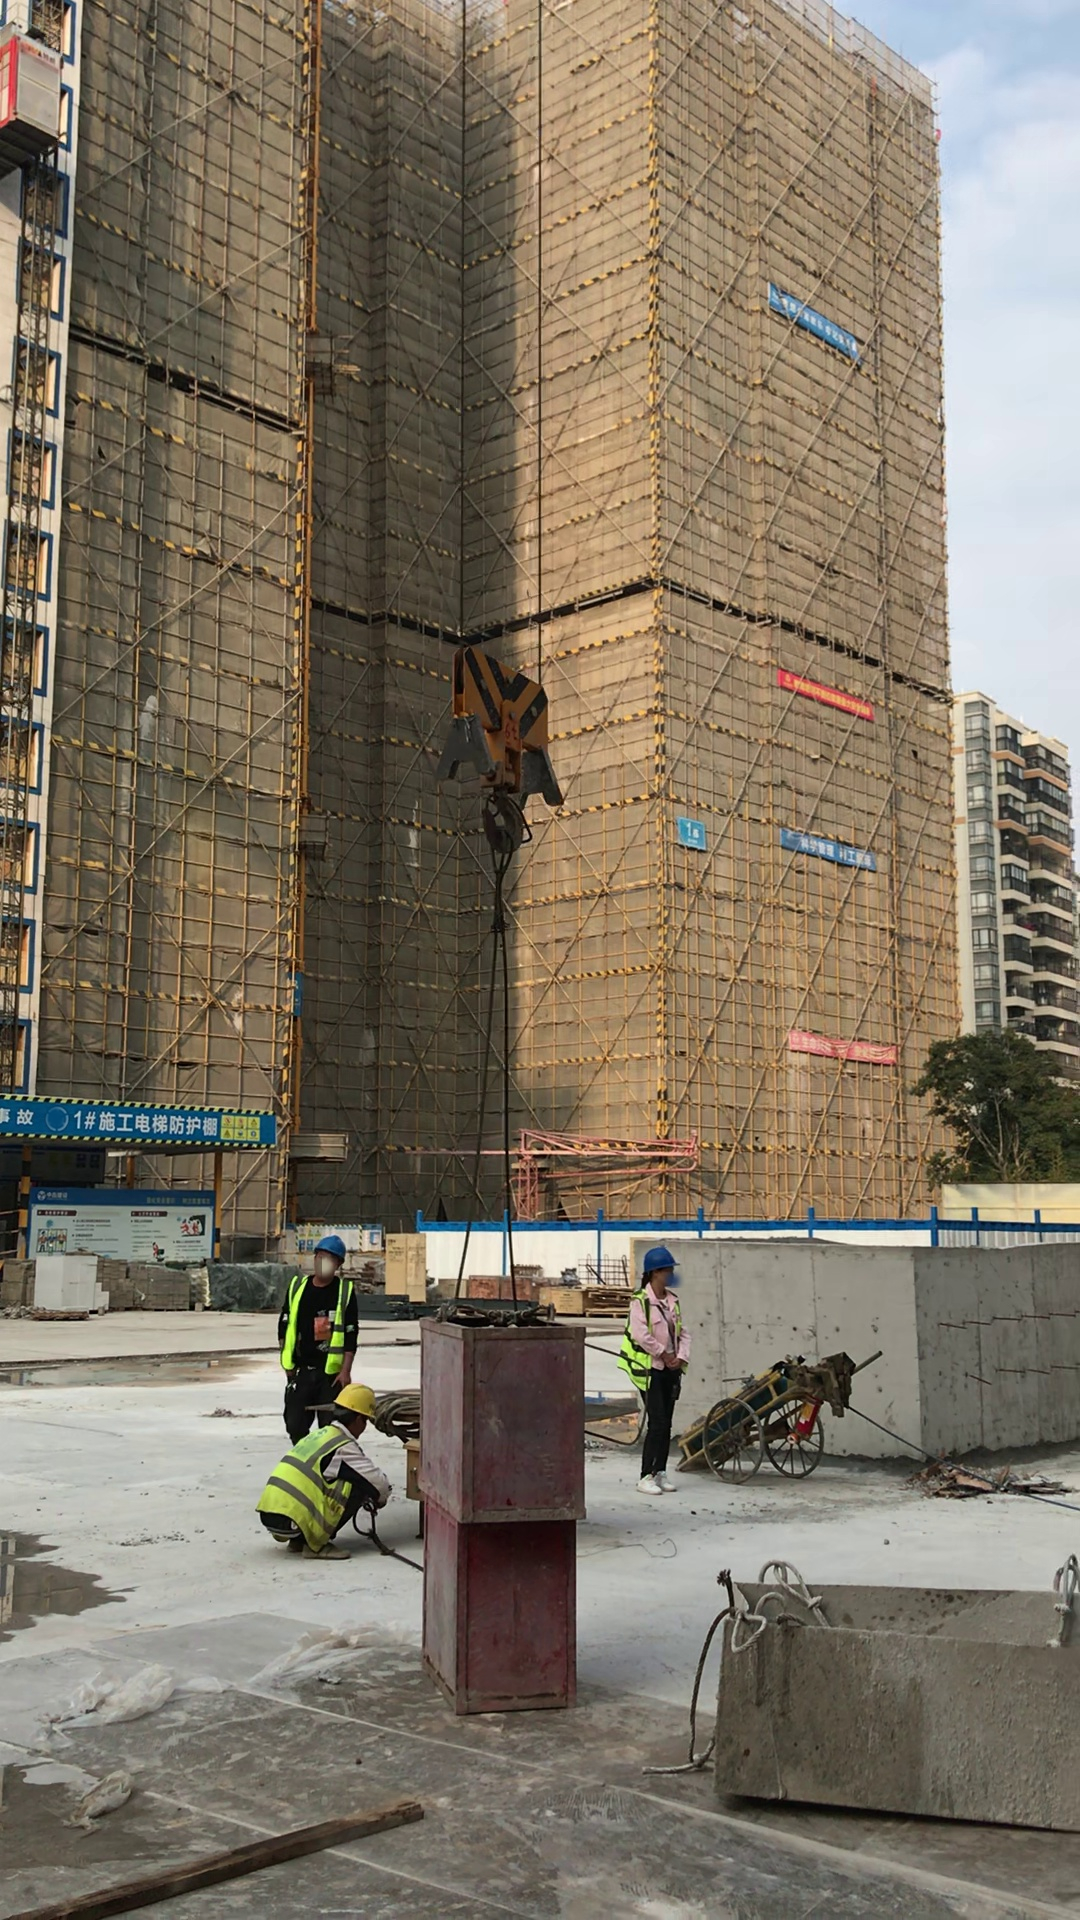brick: (25, 1242, 110, 1312)
ebox: (388, 1436, 433, 1511)
fence: (1, 1200, 30, 1267)
handcart: (666, 1343, 913, 1503)
helmet: (328, 1372, 382, 1424), (639, 1244, 687, 1282), (308, 1225, 352, 1264)
hook: (415, 620, 622, 882)
hopper: (658, 1543, 1080, 1852)
person: (247, 1369, 436, 1621), (272, 1211, 395, 1431), (620, 1227, 709, 1519)
slogan: (1, 1075, 285, 1179), (27, 1182, 221, 1282), (755, 277, 872, 377), (765, 654, 884, 750), (770, 814, 895, 903), (763, 1018, 912, 1079), (657, 803, 725, 875)
vest: (262, 1407, 356, 1560), (279, 1262, 364, 1367), (620, 1277, 694, 1382)
wood: (94, 1250, 194, 1317), (1, 1252, 36, 1311)
